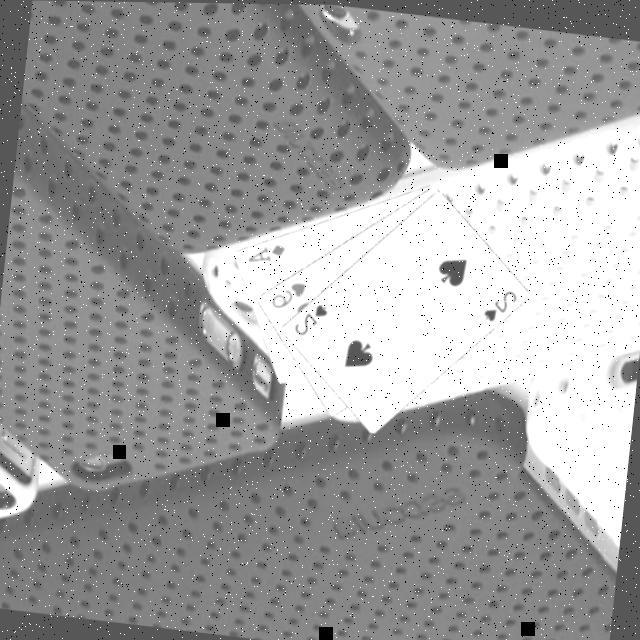2S: (288, 298, 330, 342), (476, 284, 518, 328)
9H: (266, 276, 306, 316)
AD: (242, 238, 286, 270)
